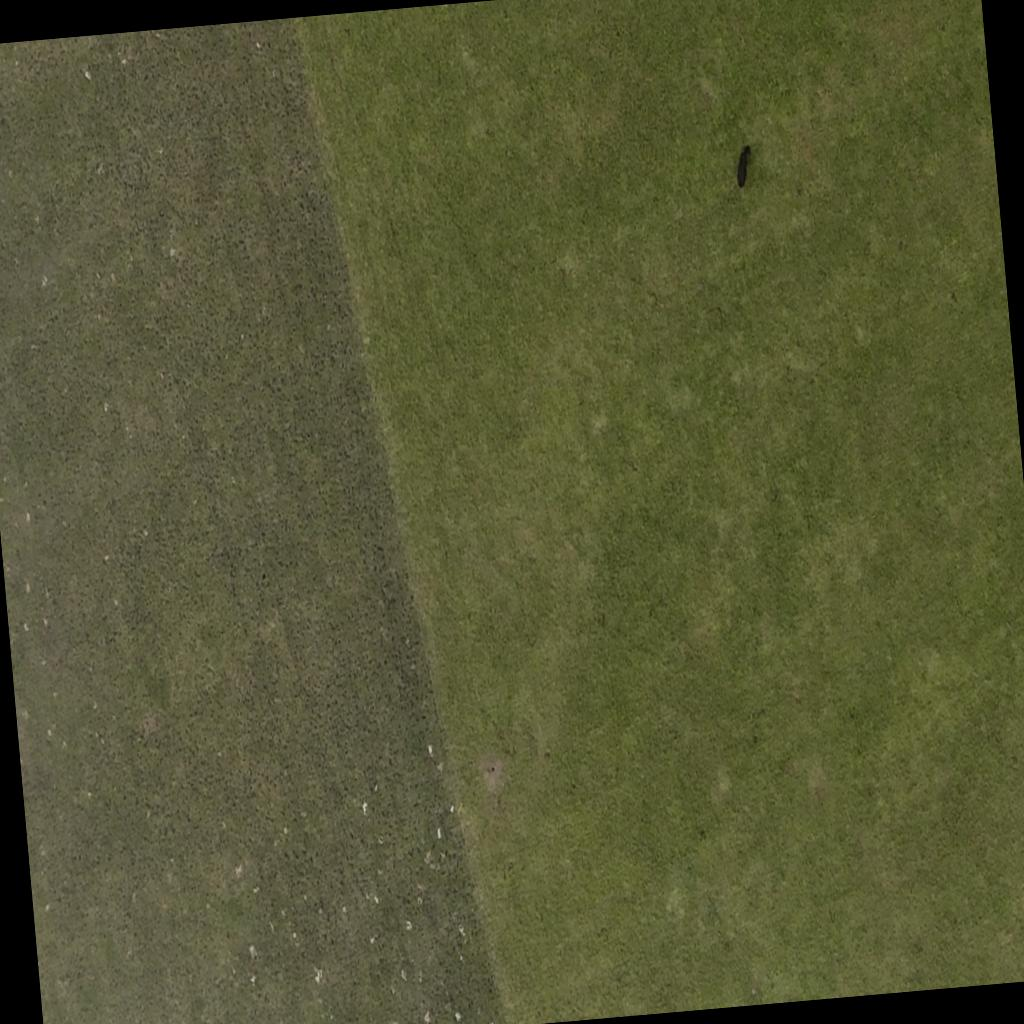cow: (730, 141, 758, 195)
